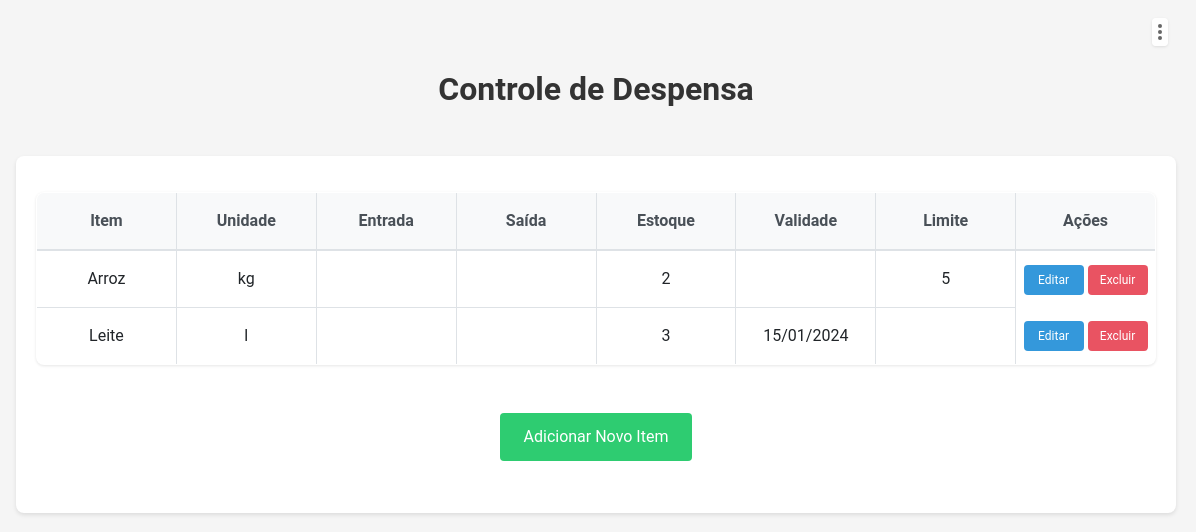
Test case: Home Component › renderiza os botões após clicar no ícone de três bolinhas
Click the icon with test id "three-dots-icon" at {"x": 1160, "y": 32}, box left=1152, top=18, right=1168, bottom=46
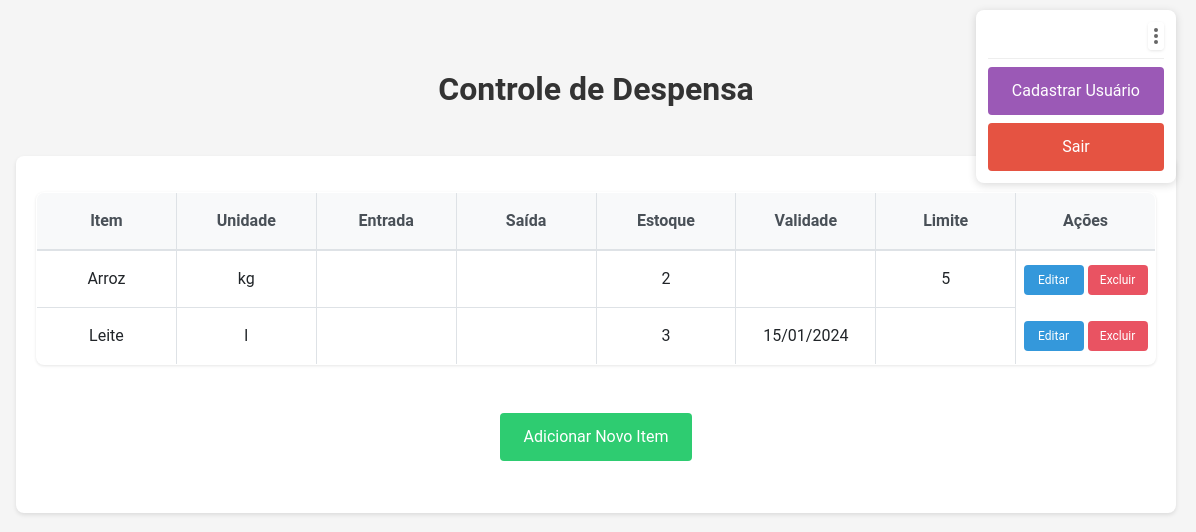
Expected: the button with test id "register-button" reads "Cadastrar Usuário", left=988, top=67, right=1164, bottom=115
Expected: the button with test id "logout-button" reads "Sair", left=988, top=123, right=1164, bottom=171
Expected: the element with test id "card-buttons" is shown, left=988, top=67, right=1164, bottom=171
